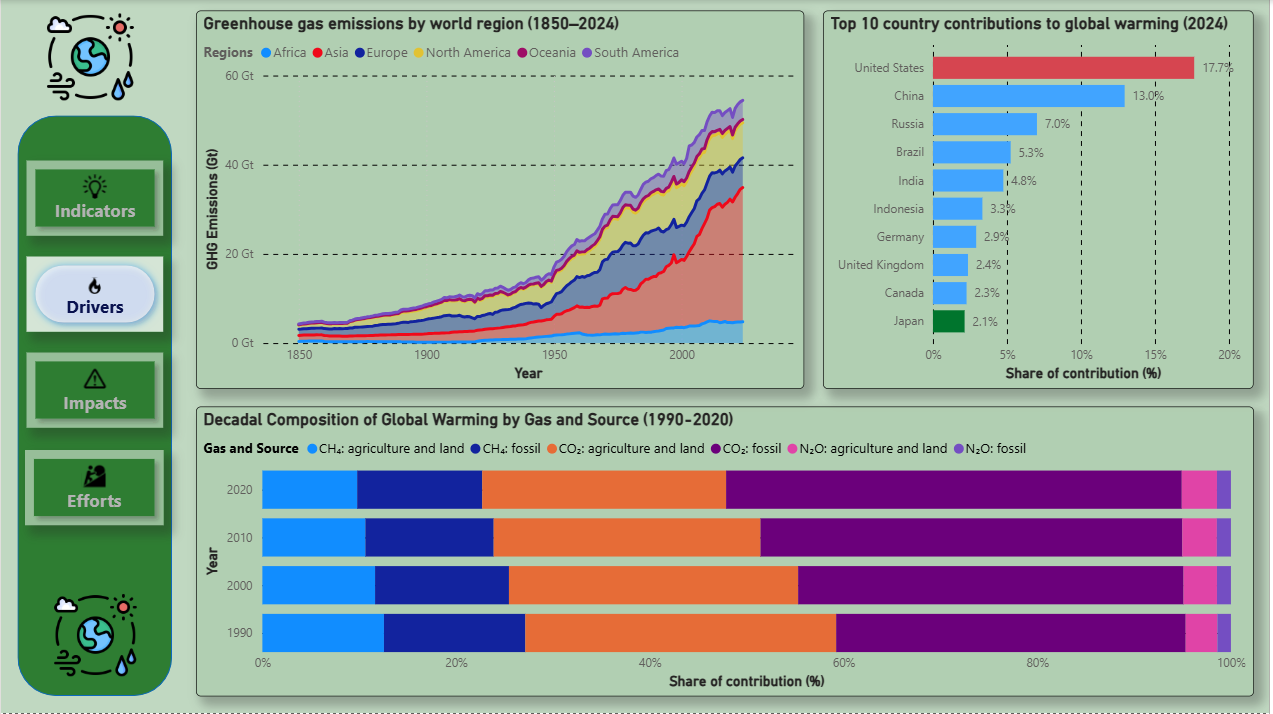

This screenshot's page, from the dashboard's own definition file:
{"tool":"powerbi","page":{"name":"Drivers","canvas":[1280,720],"ordinal":1},"visuals":[{"type":"shape","box":[16.7,116.6,156,586],"z":0},{"type":"actionButton","box":[26.2,355.7,138.3,75.7],"z":0,"group":"g1"},{"type":"actionButton","box":[26.2,161.6,138.3,75.7],"z":1000,"group":"g1"},{"type":"image","box":[36.3,598.1,118.1,86.3],"z":1000},{"type":"image","box":[7.6,12.1,165,90.9],"z":2000},{"type":"actionButton","box":[26.2,258.6,138.3,75.7],"z":2000,"group":"g1"},{"type":"group","id":"g1","title":"Group 1","box":[24.5,161.6,140,367.4],"z":3000},{"type":"actionButton","box":[24.5,453.3,139.7,75.7],"z":3000,"group":"g1"},{"type":"stackedAreaChart","title":"Greenhouse gas emissions by world region (1850–2024)","fields":{"Category":["ghg-emissions-by-world-region.Year"],"Series":["ghg-emissions-by-world-region.Entity"],"Y":["ghg-emissions-by-world-region.GHG Emissions (Gt)"]},"box":[196.5,11.3,614.2,381.7],"z":4000},{"type":"clusteredBarChart","title":"Top 10 country contributions to global warming (2024)","fields":{"Category":["contributions-global-temp-change.Entity"],"Y":["contributions-global-temp-change.Latest Contribution Share"]},"box":[829.6,11.3,434.6,381.7],"z":5000},{"type":"hundredPercentStackedBarChart","title":"Decadal Composition of Global Warming by Gas and Source (1990-2020)","fields":{"Category":["global-warming-by-gas-and-source.Year"],"Series":["global-warming-by-gas-and-source.Gas and Source"],"Y":["global-warming-by-gas-and-source.Total Warming Contribution"]},"box":[196.5,410.1,1067.7,292.9],"z":6000}]}

Visuals, with their boxes in screenshot pixels (x1, y1, x2, y2), scaled from the page's 1280x720 canvas onto the 1273x714 screenshot:
shape: (left=17, top=116, right=172, bottom=697)
actionButton: (left=26, top=353, right=164, bottom=428)
actionButton: (left=26, top=160, right=164, bottom=235)
image: (left=36, top=593, right=154, bottom=679)
image: (left=8, top=12, right=172, bottom=102)
actionButton: (left=26, top=256, right=164, bottom=332)
"Group 1" group: (left=24, top=160, right=164, bottom=525)
actionButton: (left=24, top=450, right=163, bottom=525)
"Greenhouse gas emissions by world region (1850–2024)" stackedAreaChart: (left=195, top=11, right=806, bottom=390)
"Top 10 country contributions to global warming (2024)" clusteredBarChart: (left=825, top=11, right=1257, bottom=390)
"Decadal Composition of Global Warming by Gas and Source (1990-2020)" hundredPercentStackedBarChart: (left=195, top=407, right=1257, bottom=697)
